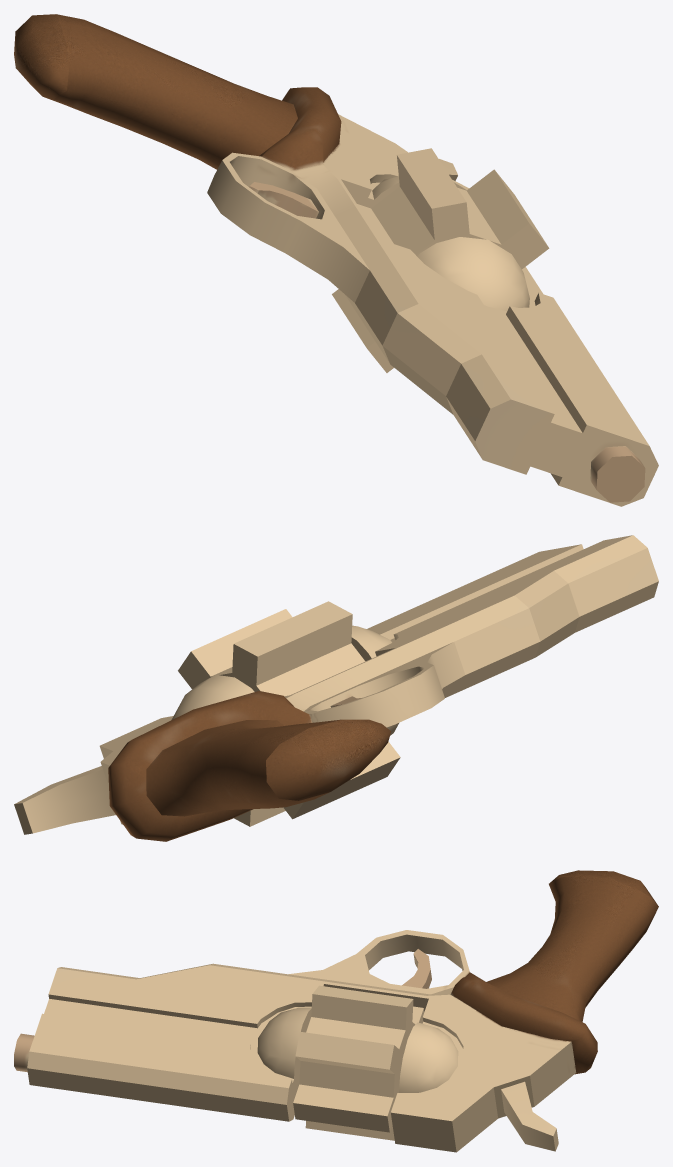
File: GunDeath.fbx
3 views of the same model, one above another, from view 1: azimuth 30°, elevation 25°; view 2: azimuth 150°, elevation 25°; view 3: azimuth 270°, elevation 25° (orthographic). The views are drawn at different scales.
Visible parts, largest first — view 1: Revolver; view 2: Revolver; view 3: Revolver.
Boxes of the visible parts, bbox=[...] form: Revolver: bbox=[14, 14, 658, 506]; Revolver: bbox=[14, 535, 658, 841]; Revolver: bbox=[14, 870, 658, 1152].
Bounding box in the file's own units: 83.35 × 51.94 × 166.
